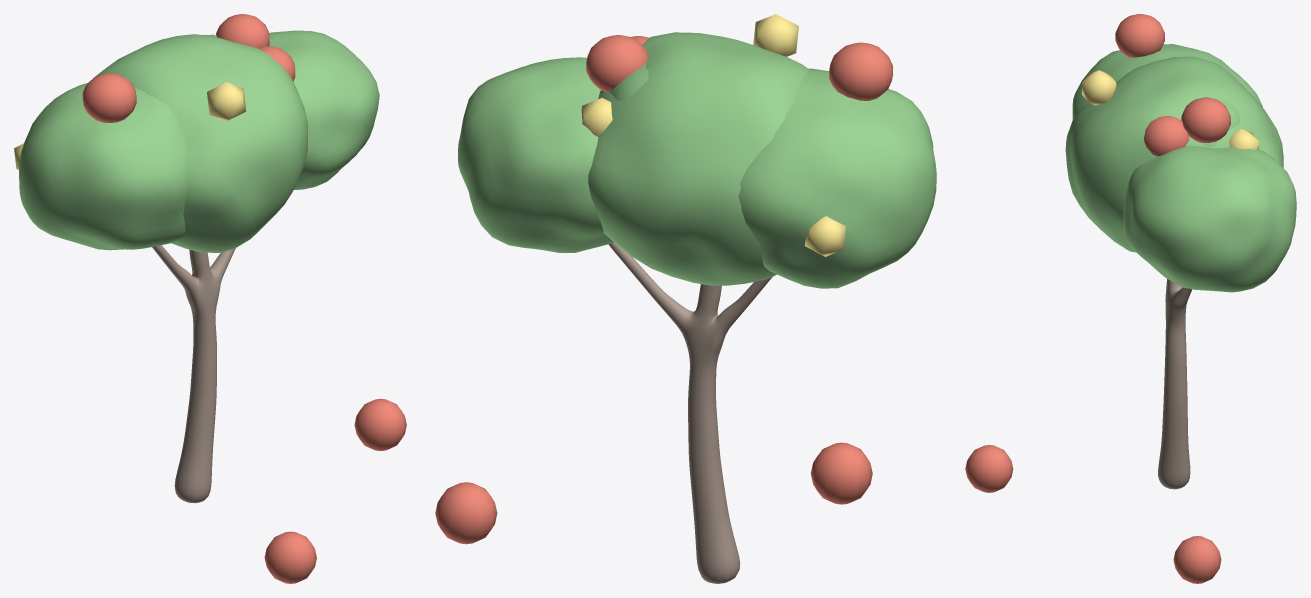
File: tree_sapling_1.glb
The picture shows the model from 3 angles, left to right: view 1: azimuth 30°, elevation 25°; view 2: azimuth 150°, elevation 25°; view 3: azimuth 270°, elevation 25°; orthographic projection. The views are drawn at different scales.
Visible parts, largest first — view 1: leaf_0, leaf_2, leaf_1, trunk, fallen, fruit_2, fruit_0, blossom, fruit_1; view 2: leaf_0, leaf_2, leaf_1, trunk, fallen, blossom, fruit_2, fruit_0, leaf_3; view 3: leaf_1, leaf_0, trunk, fallen, leaf_2, fruit_0, fruit_2, blossom, fruit_1.
Part boxes in pixels (bbox=[...]): leaf_0: bbox=[95, 34, 307, 252]; leaf_2: bbox=[19, 83, 188, 250]; leaf_1: bbox=[269, 30, 379, 189]; trunk: bbox=[152, 245, 235, 503]; fallen: bbox=[264, 398, 406, 583]; fruit_2: bbox=[82, 73, 136, 122]; fruit_0: bbox=[216, 14, 269, 48]; blossom: bbox=[14, 82, 245, 169]; fruit_1: bbox=[258, 46, 295, 81]; leaf_0: bbox=[588, 32, 808, 285]; leaf_2: bbox=[738, 68, 936, 288]; leaf_1: bbox=[458, 57, 614, 252]; trunk: bbox=[608, 242, 772, 583]; fallen: bbox=[435, 442, 872, 544]; blossom: bbox=[581, 14, 845, 256]; fruit_2: bbox=[829, 42, 892, 100]; fruit_0: bbox=[586, 35, 648, 92]; leaf_3: bbox=[600, 63, 648, 101]; leaf_1: bbox=[1123, 146, 1296, 292]; leaf_0: bbox=[1065, 56, 1283, 252]; trunk: bbox=[1158, 279, 1192, 489]; fallen: bbox=[965, 445, 1221, 583]; leaf_2: bbox=[1072, 44, 1262, 120]; fruit_0: bbox=[1181, 97, 1230, 142]; fruit_2: bbox=[1115, 14, 1164, 57]; blossom: bbox=[1082, 70, 1258, 149]; fruit_1: bbox=[1144, 116, 1189, 156].
Bounding box in the file's own units: 1.8 × 2.06 × 1.44.
